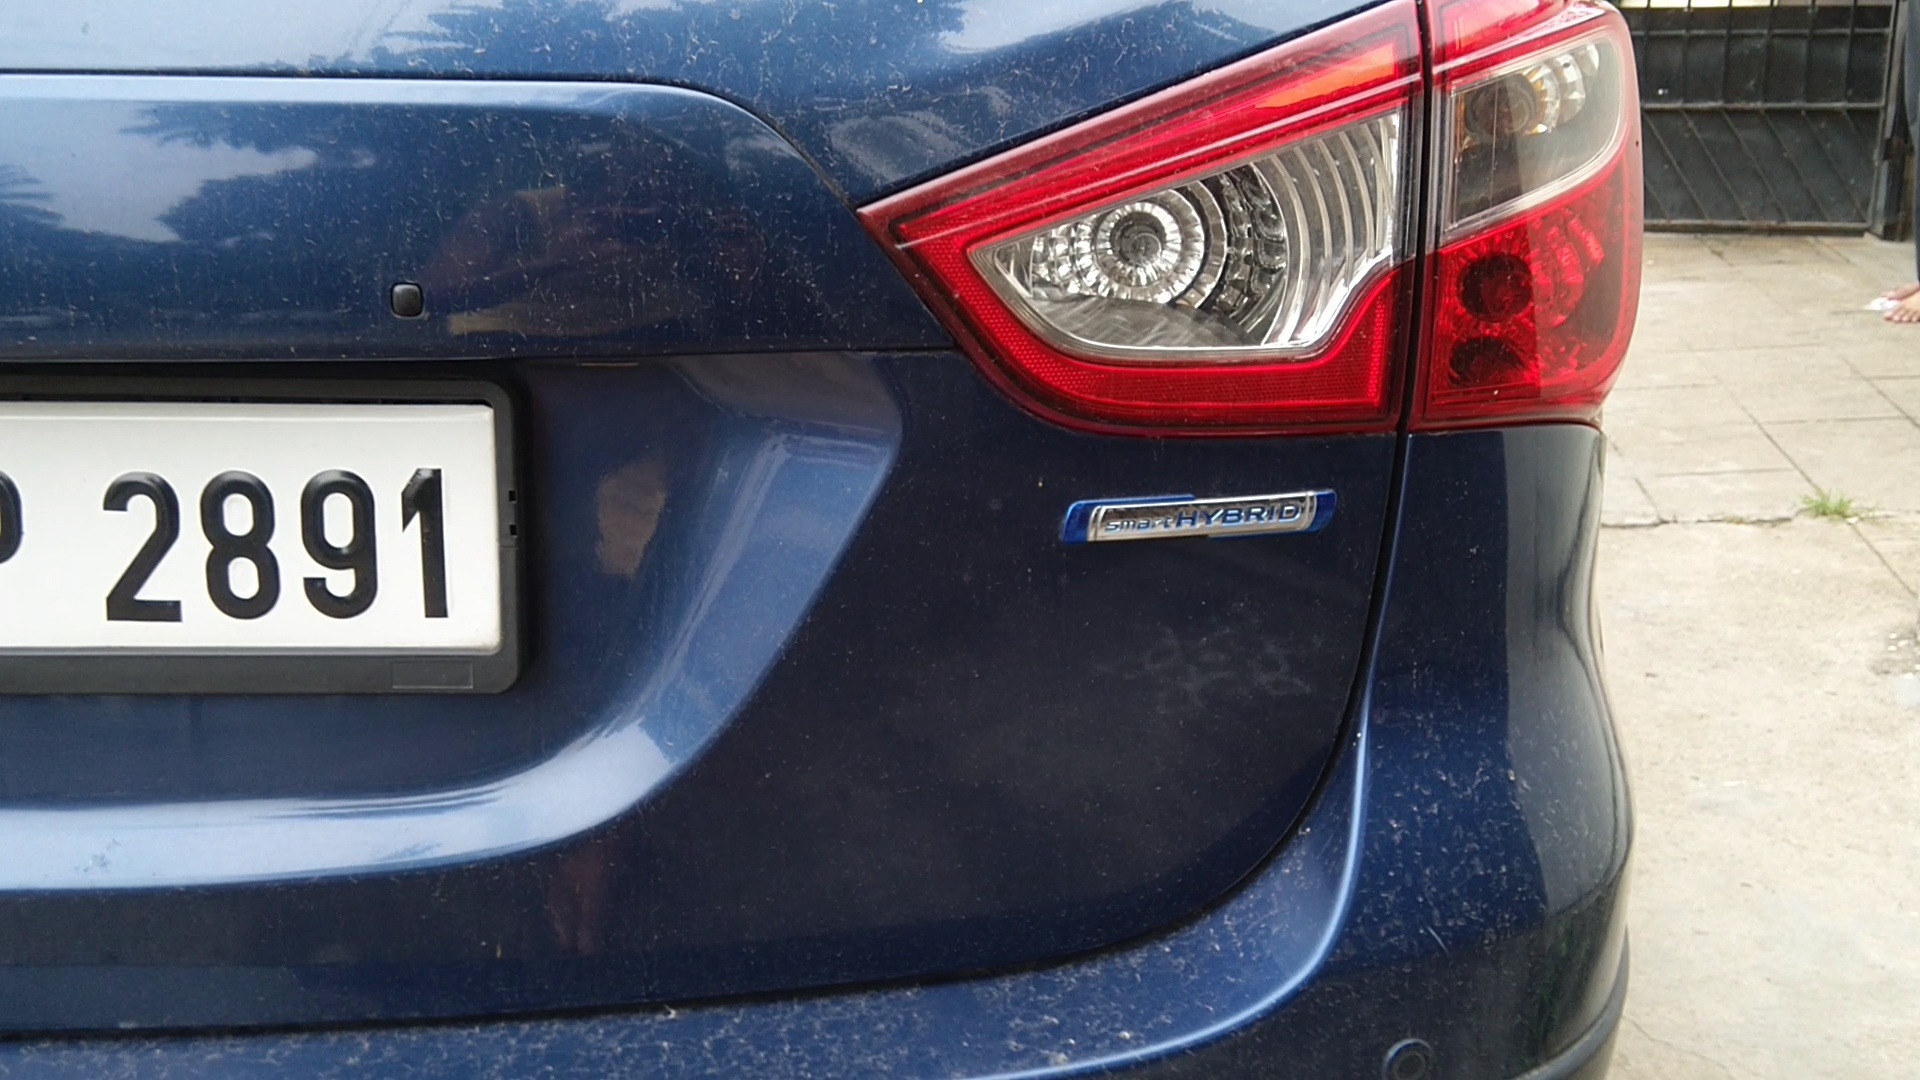shvs: (1044, 462, 1367, 608)
